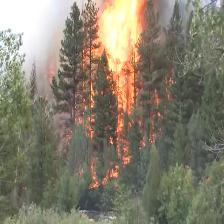fire: (102, 3, 141, 60)
